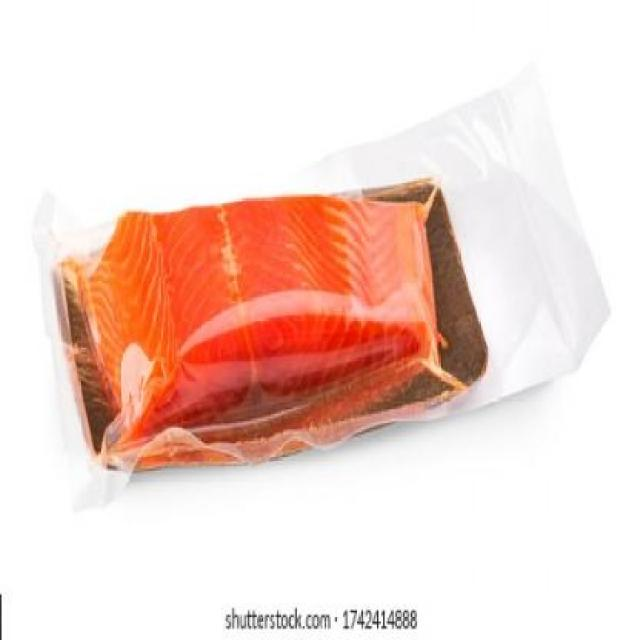salmon: (66, 174, 459, 421)
